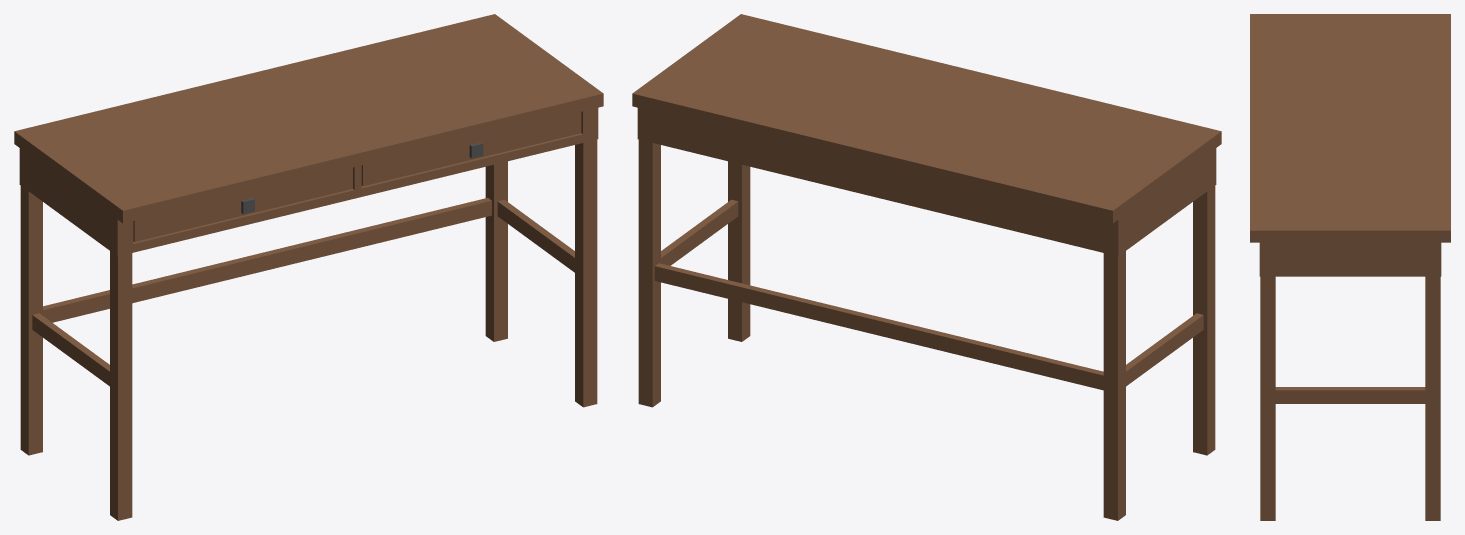
File: desk.glb
The picture shows the model from 3 angles, left to right: view 1: azimuth 30°, elevation 25°; view 2: azimuth 150°, elevation 25°; view 3: azimuth 270°, elevation 25°; orthographic projection. The views are drawn at different scales.
Parts seen in each view (by area): view 1: desk2; view 2: desk2; view 3: desk2.
Part boxes in pixels (<box>): desk2: <box>14,14,603,520</box>; desk2: <box>632,14,1221,520</box>; desk2: <box>1250,14,1450,520</box>.
Size of the model in its own units: 120 by 75 by 47.
